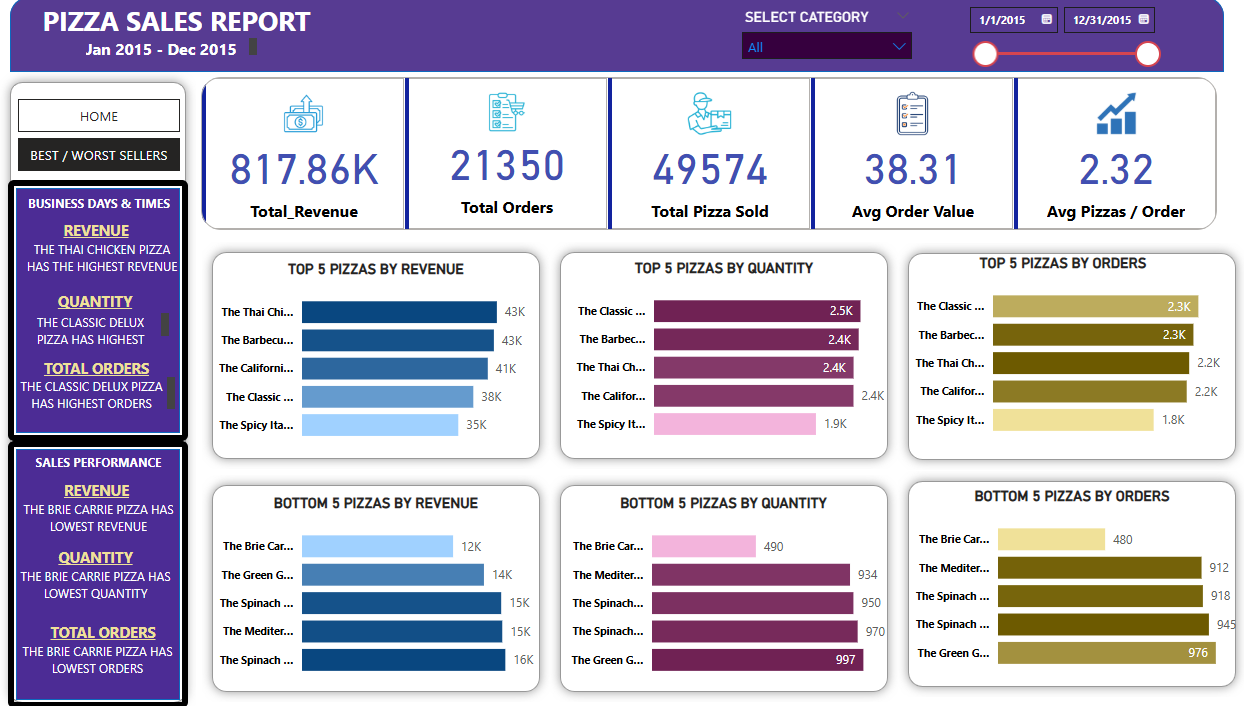

This screenshot's page, from the dashboard's own definition file:
{"tool":"powerbi","page":{"name":"BEST / WORST SELLERS","canvas":[1280,720],"ordinal":1},"visuals":[{"type":"shape","box":[22.7,75.5,196.4,640.9],"z":0},{"type":"cardVisual","fields":{"Data":["pizza_sales.Total_Revenue","pizza_sales.Total_Orders","pizza_sales.Total Pizza Sold","pizza_sales.Avg Order Value","pizza_sales.Avg Pizzas Per Order"]},"box":[211.8,75.5,1044.5,162.7],"z":1000},{"type":"shape","box":[32.7,0,1214.5,75.5],"z":2000},{"type":"textbox","box":[0,0,399.1,50.9],"z":3000},{"type":"textbox","box":[103.6,36.4,180.9,28.2],"z":4000},{"type":"shape","box":[31,183,180,261],"z":5000},{"type":"shape","box":[31,444,180,267],"z":6000},{"type":"textbox","box":[46,192,238,31],"z":7000},{"type":"textbox","box":[0,451,243,27],"z":8000},{"type":"textbox","box":[42.7,218.2,152.7,40],"z":9000},{"type":"textbox","box":[28.2,289.1,180,40],"z":10000},{"type":"textbox","box":[30.9,478.2,177.3,40],"z":11000},{"type":"slicer","fields":{"Values":["pizza_sales.order_date"]},"box":[980,0,211.8,75.5],"z":12000},{"type":"slicer","fields":{"Values":["pizza_sales.pizza_category"]},"box":[755.5,7.3,189.1,57.3],"z":13000},{"type":"textbox","box":[39.1,238.2,171.8,50.9],"z":14000},{"type":"textbox","box":[39.1,310.9,158.2,43.6],"z":15000},{"type":"shape","box":[224.5,245.5,348.2,226.4],"z":16000},{"type":"shape","box":[224.5,478.2,348.2,226.4],"z":17000},{"type":"shape","box":[572.7,245.5,348.2,226.4],"z":18000},{"type":"shape","box":[920.9,246.4,348.2,226.4],"z":19000},{"type":"shape","box":[572.7,478.2,348.2,226.4],"z":20000},{"type":"shape","box":[920.9,473.6,348.2,226.4],"z":21000},{"type":"barChart","title":"TOP 5 PIZZAS BY REVENUE","fields":{"Y":["pizza_sales.Total_Revenue"],"Category":["pizza_sales.pizza_name"]},"box":[224.5,263.6,348.2,192.7],"z":22000},{"type":"barChart","title":"BOTTOM 5 PIZZAS BY REVENUE","fields":{"Y":["pizza_sales.Total_Revenue"],"Category":["pizza_sales.pizza_name"]},"box":[224.5,498.2,348.2,192.7],"z":23000},{"type":"barChart","title":"TOP 5 PIZZAS BY QUANTITY","fields":{"Category":["pizza_sales.pizza_name"],"Y":["Sum(pizza_sales.quantity)"]},"box":[581.8,262.7,330,192.7],"z":24000},{"type":"barChart","title":"BOTTOM 5 PIZZAS BY QUANTITY","fields":{"Category":["pizza_sales.pizza_name"],"Y":["Sum(pizza_sales.quantity)"]},"box":[577.3,498.2,339.1,192.7],"z":25000},{"type":"barChart","title":"TOP 5 PIZZAS BY ORDERS","fields":{"Category":["pizza_sales.pizza_name"],"Y":["pizza_sales.Total_Orders"]},"box":[920.9,258.2,330,192.7],"z":26000},{"type":"barChart","title":"BOTTOM 5 PIZZAS BY ORDERS","fields":{"Y":["pizza_sales.Total_Orders"],"Category":["pizza_sales.pizza_name"]},"box":[920.9,490.9,348.2,192.7],"z":27000},{"type":"textbox","box":[30.9,356.4,177.3,40],"z":28000},{"type":"textbox","box":[34.5,374.5,168.2,43.6],"z":29000},{"type":"textbox","box":[32.7,640,175.5,43.6],"z":30000},{"type":"textbox","box":[30.9,565.5,175.5,43.6],"z":31000},{"type":"textbox","box":[33.6,498.2,175.5,43.6],"z":32000},{"type":"textbox","box":[30,545.5,177.3,40],"z":32001},{"type":"textbox","box":[37.3,620,177.3,40],"z":32002},{"type":"pageNavigator","box":[40.9,140.9,161.8,32.7],"z":32003},{"type":"pageNavigator","box":[40.9,101.8,161.8,32.7],"z":32004}]}

Visuals, with their boxes in screenshot pixels (x1, y1, x2, y2), scaled from the page's 1280x720 canvas onto the 1244x706 screenshot:
shape: {"left": 22, "top": 74, "right": 213, "bottom": 702}
cardVisual - pizza_sales.Total_Revenue x pizza_sales.Total_Orders: {"left": 206, "top": 74, "right": 1221, "bottom": 234}
shape: {"left": 32, "top": 0, "right": 1212, "bottom": 74}
textbox: {"left": 0, "top": 0, "right": 388, "bottom": 50}
textbox: {"left": 101, "top": 36, "right": 276, "bottom": 63}
shape: {"left": 30, "top": 179, "right": 205, "bottom": 435}
shape: {"left": 30, "top": 435, "right": 205, "bottom": 697}
textbox: {"left": 45, "top": 188, "right": 276, "bottom": 219}
textbox: {"left": 0, "top": 442, "right": 236, "bottom": 469}
textbox: {"left": 41, "top": 214, "right": 190, "bottom": 253}
textbox: {"left": 27, "top": 283, "right": 202, "bottom": 323}
textbox: {"left": 30, "top": 469, "right": 202, "bottom": 508}
slicer - pizza_sales.order_date: {"left": 952, "top": 0, "right": 1158, "bottom": 74}
slicer - pizza_sales.pizza_category: {"left": 734, "top": 7, "right": 918, "bottom": 63}
textbox: {"left": 38, "top": 234, "right": 205, "bottom": 283}
textbox: {"left": 38, "top": 305, "right": 192, "bottom": 348}
shape: {"left": 218, "top": 241, "right": 557, "bottom": 463}
shape: {"left": 218, "top": 469, "right": 557, "bottom": 691}
shape: {"left": 557, "top": 241, "right": 895, "bottom": 463}
shape: {"left": 895, "top": 242, "right": 1233, "bottom": 464}
shape: {"left": 557, "top": 469, "right": 895, "bottom": 691}
shape: {"left": 895, "top": 464, "right": 1233, "bottom": 686}
"TOP 5 PIZZAS BY REVENUE" barChart: {"left": 218, "top": 258, "right": 557, "bottom": 447}
"BOTTOM 5 PIZZAS BY REVENUE" barChart: {"left": 218, "top": 489, "right": 557, "bottom": 677}
"TOP 5 PIZZAS BY QUANTITY" barChart: {"left": 565, "top": 258, "right": 886, "bottom": 447}
"BOTTOM 5 PIZZAS BY QUANTITY" barChart: {"left": 561, "top": 489, "right": 891, "bottom": 677}
"TOP 5 PIZZAS BY ORDERS" barChart: {"left": 895, "top": 253, "right": 1216, "bottom": 442}
"BOTTOM 5 PIZZAS BY ORDERS" barChart: {"left": 895, "top": 481, "right": 1233, "bottom": 670}
textbox: {"left": 30, "top": 349, "right": 202, "bottom": 389}
textbox: {"left": 34, "top": 367, "right": 197, "bottom": 410}
textbox: {"left": 32, "top": 628, "right": 202, "bottom": 670}
textbox: {"left": 30, "top": 555, "right": 201, "bottom": 597}
textbox: {"left": 33, "top": 489, "right": 203, "bottom": 531}
textbox: {"left": 29, "top": 535, "right": 201, "bottom": 574}
textbox: {"left": 36, "top": 608, "right": 209, "bottom": 647}
pageNavigator: {"left": 40, "top": 138, "right": 197, "bottom": 170}
pageNavigator: {"left": 40, "top": 100, "right": 197, "bottom": 132}
